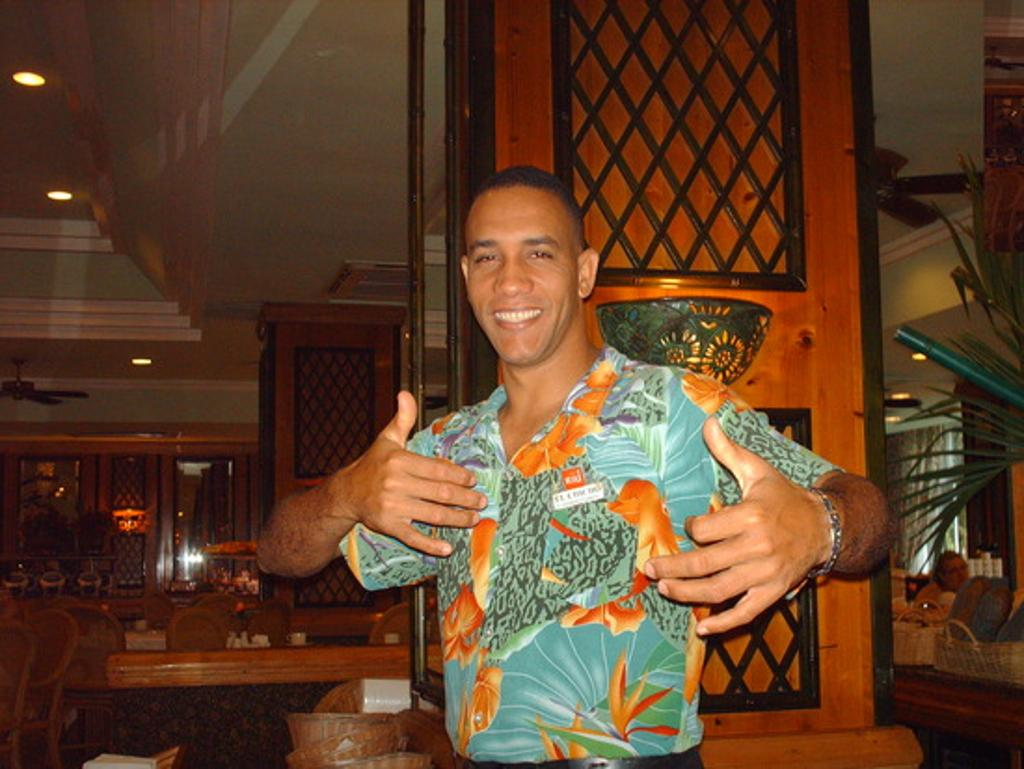face: (466, 186, 580, 362)
